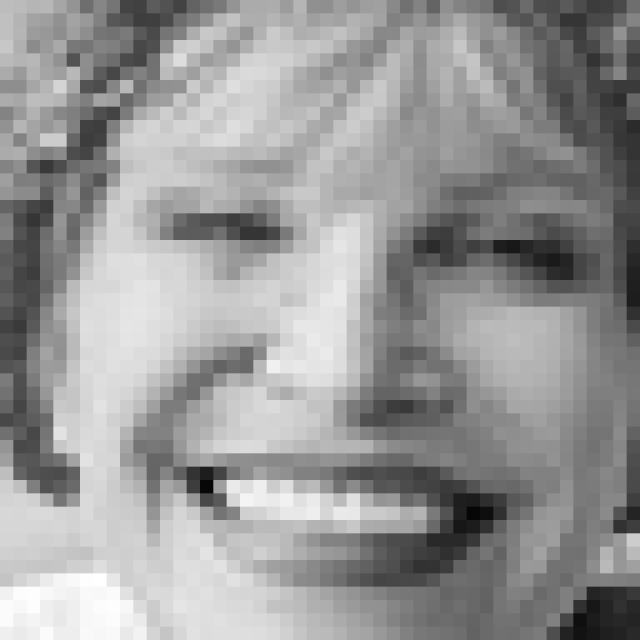happy: (123, 142, 613, 597)
